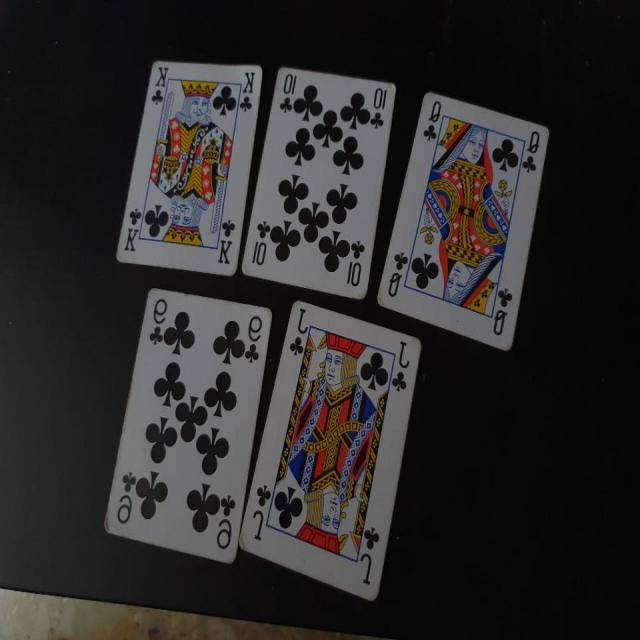10 of clubs: (241, 66, 398, 302)
9 of clubs: (102, 284, 274, 564)
jack of clubs: (237, 296, 422, 604)
king of clubs: (116, 59, 262, 268)
queen of clubs: (376, 90, 552, 353)
